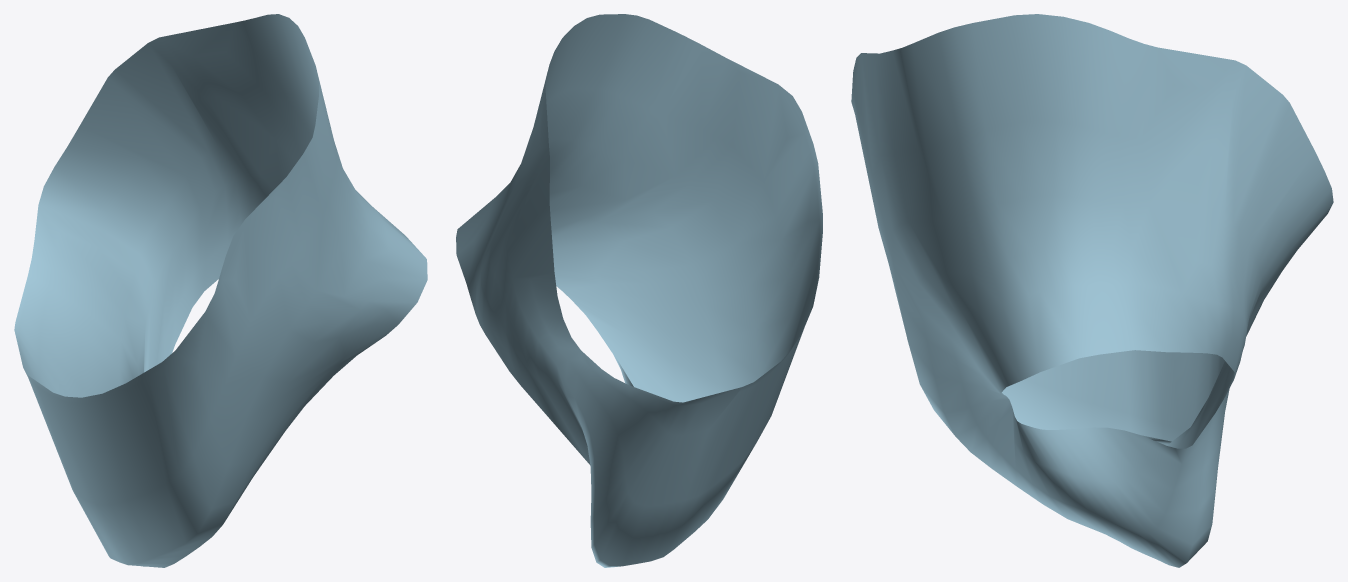
File: articulacoes-articular-capsule-of-hip-joint-l.glb
3 views of the same model, side by side, from view 1: azimuth 30°, elevation 25°; view 2: azimuth 150°, elevation 25°; view 3: azimuth 270°, elevation 25° (orthographic). The views are drawn at different scales.
Parts seen in each view (by area): view 1: Articular capsule of hip joint.l; view 2: Articular capsule of hip joint.l; view 3: Articular capsule of hip joint.l.
Boxes of the visible parts, x1,y1,x2,y2 form: Articular capsule of hip joint.l: (14,14,427,567); Articular capsule of hip joint.l: (456,14,822,567); Articular capsule of hip joint.l: (851,14,1333,567).
Size of the model in its own units: 0.054 by 0.0787 by 0.0573.
